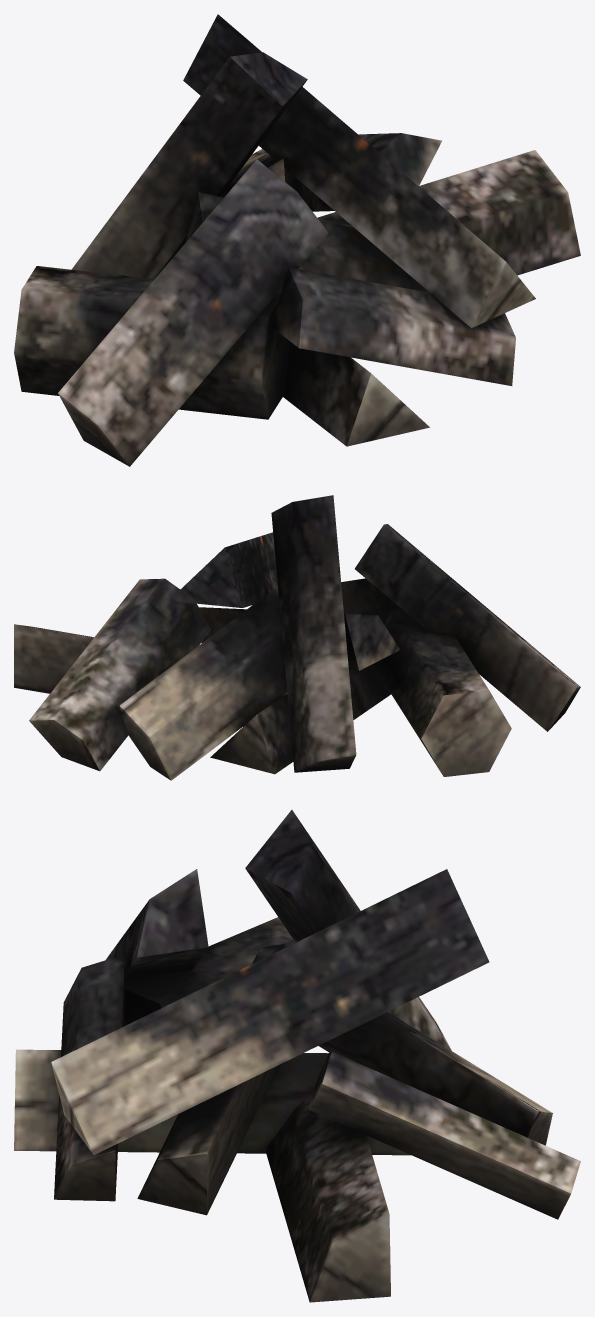
Rendered from bonfire.dae.
3 renders of one model, top to bottom at view 1: azimuth 30°, elevation 25°; view 2: azimuth 150°, elevation 25°; view 3: azimuth 270°, elevation 25°, orthographic. The views are drawn at different scales.
Visible parts, largest first — view 1: bonfire_mesh; view 2: bonfire_mesh; view 3: bonfire_mesh.
Part boxes in pixels (x1,y1,x2,y2): bonfire_mesh: (14,14,580,466); bonfire_mesh: (14,495,580,780); bonfire_mesh: (14,810,580,1302).
Bounding box in the file's own units: 0.9223 × 0.4329 × 0.72.
